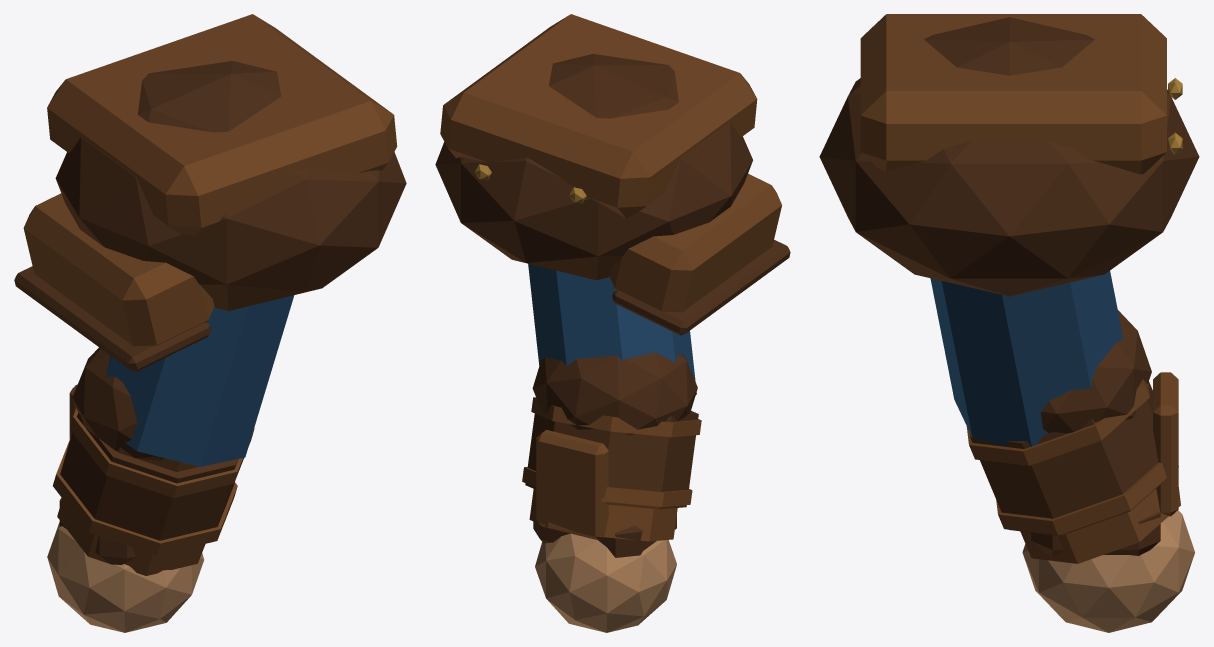
File: ArmLeft.glb
3 views of the same model, side by side, from view 1: azimuth 30°, elevation 25°; view 2: azimuth 150°, elevation 25°; view 3: azimuth 270°, elevation 25° (orthographic). The views are drawn at different scales.
Parts seen in each view (by area): view 1: Sculpture; view 2: Sculpture; view 3: Sculpture.
Boxes of the visible parts, box(x1,y1,x2,y2) form: Sculpture: box(14, 14, 406, 632); Sculpture: box(435, 14, 790, 632); Sculpture: box(819, 14, 1199, 632).
Bounding box in the file's own units: 0.4475 × 0.785 × 0.44.
